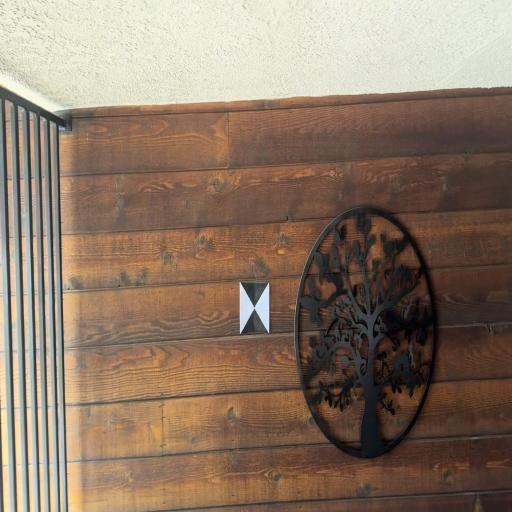target: (240, 282, 269, 333)
